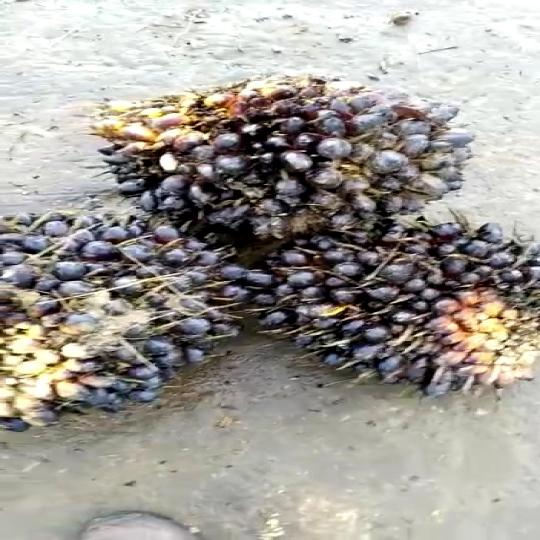mentah: (234, 197, 540, 420), (93, 73, 469, 248), (1, 205, 240, 439)
